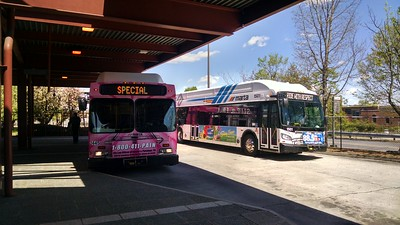bus: (177, 79, 327, 156), (88, 71, 179, 167)
